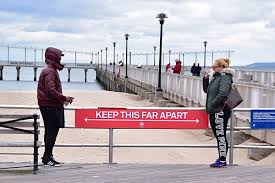Good: (36, 46, 233, 167)
